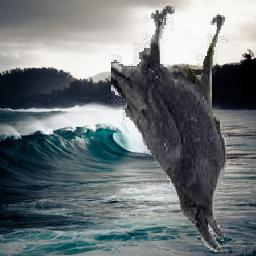Crow: (112, 4, 229, 253)
